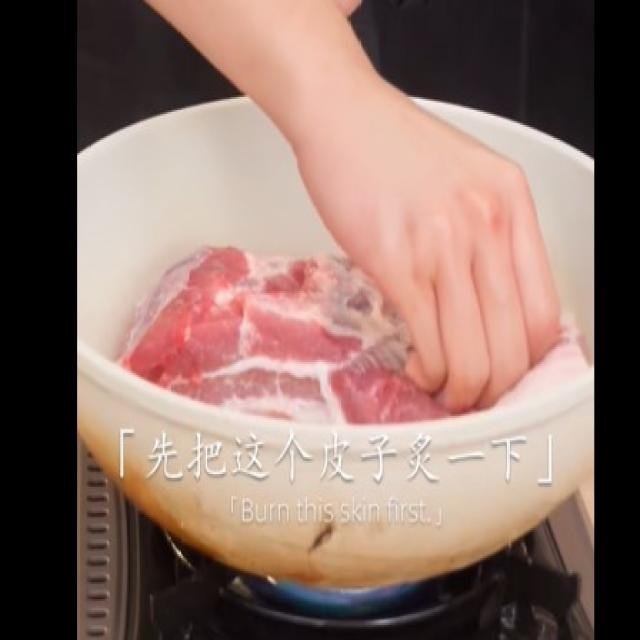pork: (121, 247, 451, 415)
